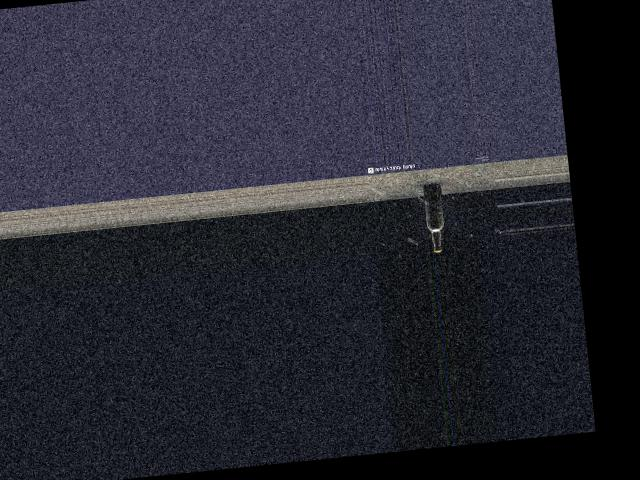beer: (424, 183, 447, 252)
